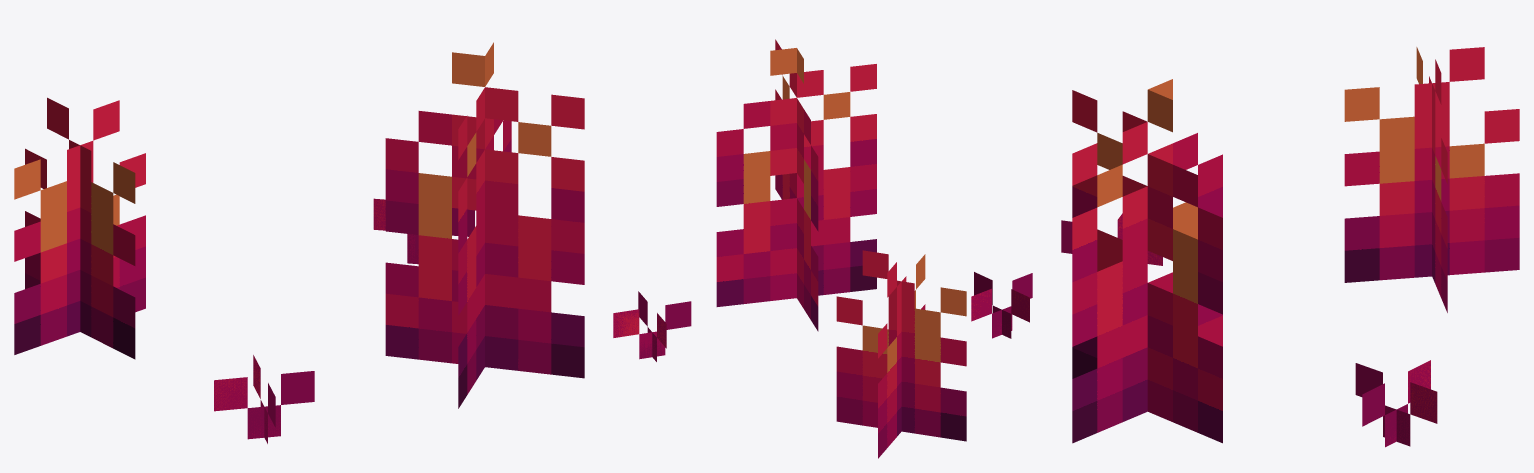
Rendered from crop.obj.
The picture shows the model from 3 angles, left to right: view 1: azimuth 30°, elevation 25°; view 2: azimuth 150°, elevation 25°; view 3: azimuth 270°, elevation 25°; orthographic projection. The views are drawn at different scales.
Parts seen in each view (by area): view 1: cube_1, cube_4, cube_3, cube_2, cube_7, cube_5, cube_8; view 2: cube_2, cube_4, cube_1, cube_3, cube_6, cube_8, cube_7, cube_5; view 3: cube_3, cube_2, cube_1, cube_4, cube_6, cube_5, cube_8.
Part boxes in pixels (bbox=[...]): cube_1: bbox=[385, 52, 584, 378]; cube_4: bbox=[14, 100, 145, 354]; cube_3: bbox=[25, 97, 135, 359]; cube_2: bbox=[458, 42, 511, 408]; cube_7: bbox=[214, 371, 314, 439]; cube_5: bbox=[373, 198, 474, 264]; cube_8: bbox=[253, 355, 275, 443]; cube_2: bbox=[716, 48, 876, 306]; cube_4: bbox=[836, 250, 966, 441]; cube_1: bbox=[775, 39, 818, 331]; cube_3: bbox=[878, 254, 925, 458]; cube_6: bbox=[613, 301, 691, 359]; cube_8: bbox=[971, 273, 1032, 338]; cube_7: bbox=[974, 272, 1029, 338]; cube_5: bbox=[638, 291, 666, 361]; cube_3: bbox=[1344, 47, 1519, 282]; cube_2: bbox=[1072, 90, 1222, 443]; cube_1: bbox=[1072, 79, 1222, 443]; cube_4: bbox=[1416, 47, 1447, 312]; cube_6: bbox=[1355, 363, 1437, 446]; cube_5: bbox=[1362, 360, 1430, 447]; cube_8: bbox=[1061, 220, 1162, 265].
Bounding box in the file's own units: 0.9132 × 0.625 × 0.8058.
